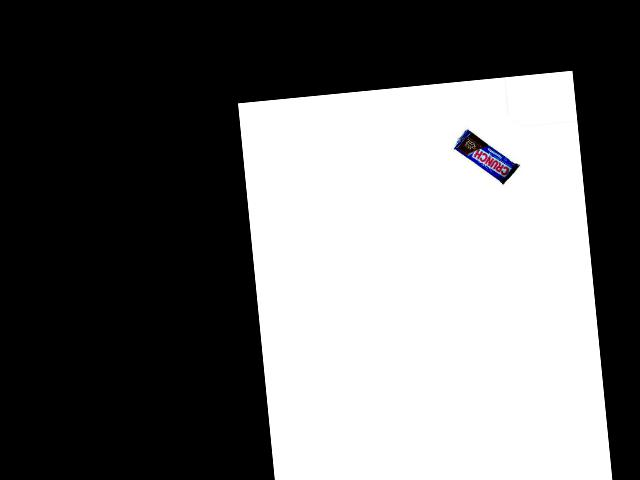chocolate: (450, 123, 522, 189)
